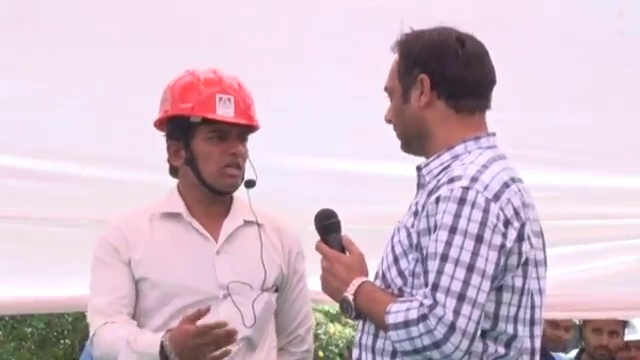helmet: (149, 71, 269, 140), (623, 317, 640, 344)
helmet_off: (383, 33, 497, 157), (577, 323, 632, 358), (539, 316, 580, 352)
helmet_on: (153, 71, 267, 202), (623, 318, 640, 360)
person: (317, 35, 545, 360), (86, 71, 317, 360)
